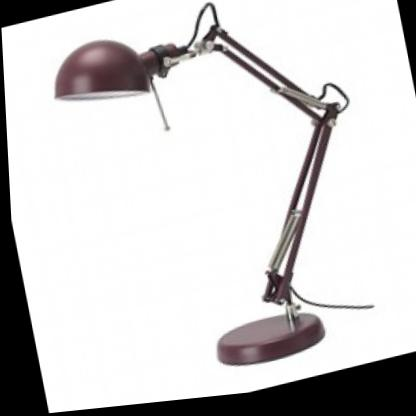Lamp: (22, 0, 396, 414)
